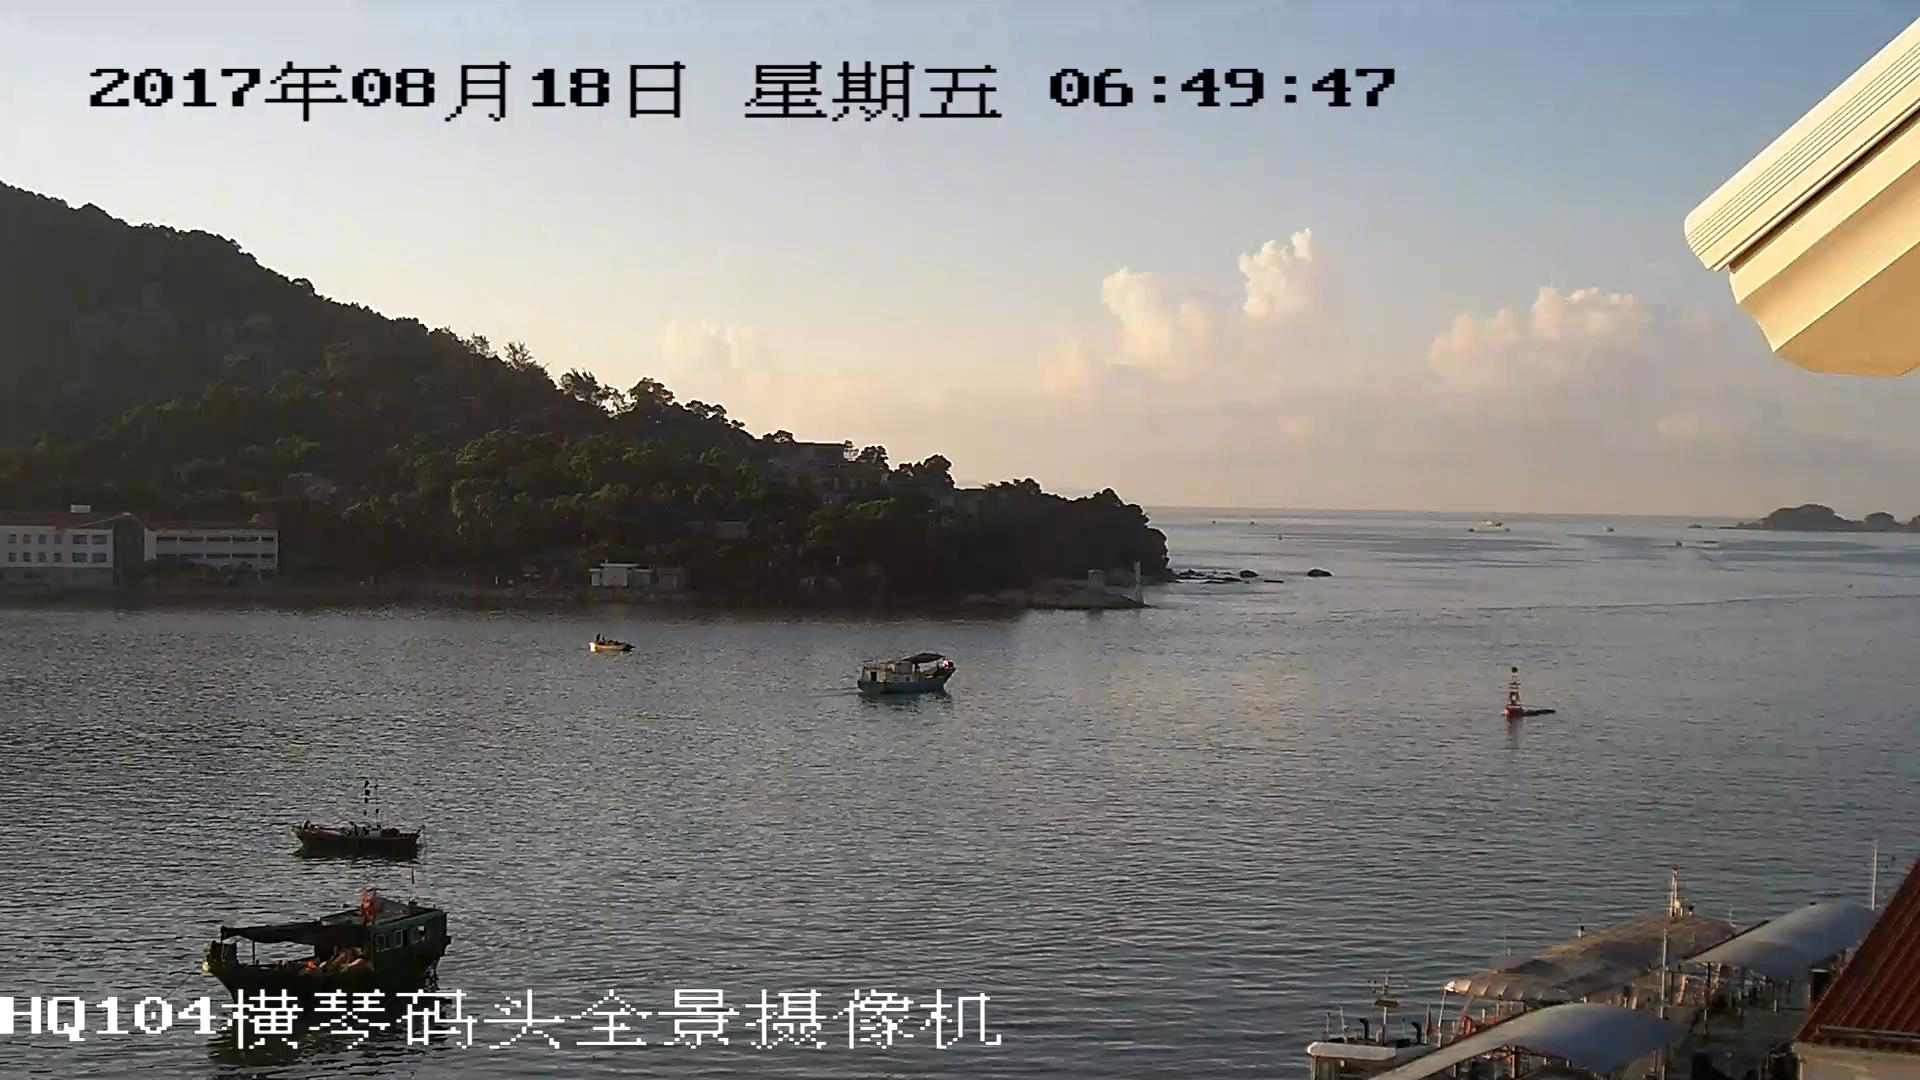fishing boat: (202, 904, 443, 983), (297, 811, 416, 858), (859, 660, 954, 694)
